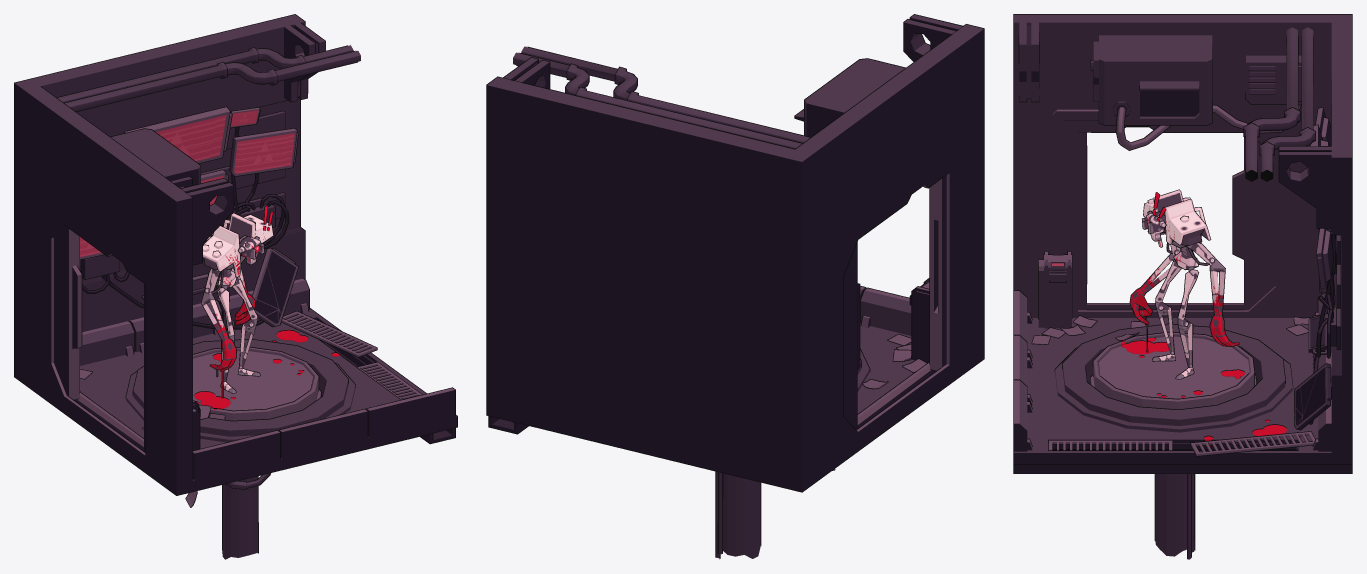
Rendered from i_am_error.glb.
3 renders of one model, left to right at view 1: azimuth 30°, elevation 25°; view 2: azimuth 150°, elevation 25°; view 3: azimuth 270°, elevation 25°, orthographic. The views are drawn at different scales.
Visible parts, largest first — view 1: character_error.010_0; view 2: character_error.010_0; view 3: character_error.010_0.
Part boxes in pixels (left/top/right/bottom): character_error.010_0: left=14, top=14, right=457, bottom=559; character_error.010_0: left=486, top=14, right=984, bottom=559; character_error.010_0: left=1013, top=14, right=1352, bottom=559.
Size of the model in its own units: 3.88 by 5.62 by 3.69.
Materials: 2 (1 with a texture image).
